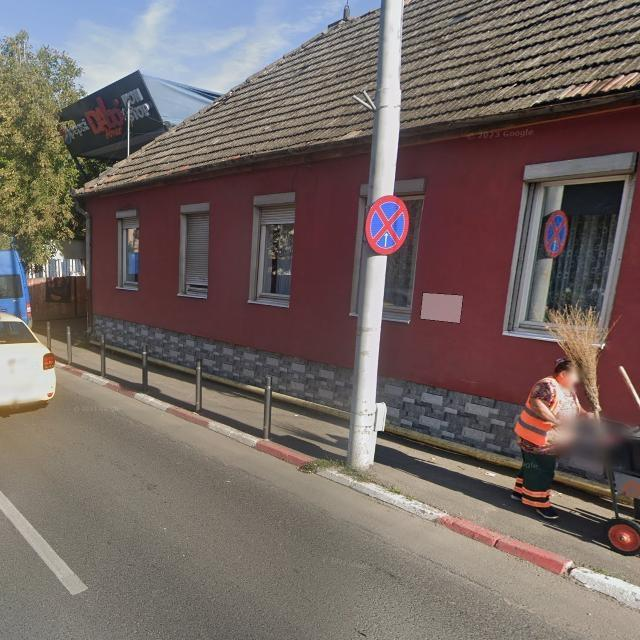forb_waiting: (363, 196, 410, 256), (541, 210, 571, 258)
